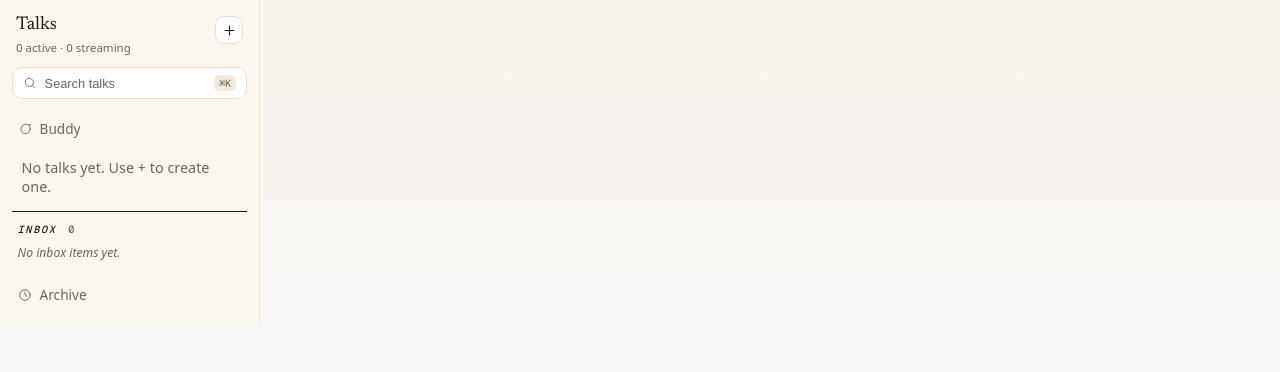
Test case: SecondaryList › exposes the create menu under the preserved "Create talk or folder" label
Click the button named "Create talk or folder": (229,30) x1=215 y1=16 x2=243 y2=44
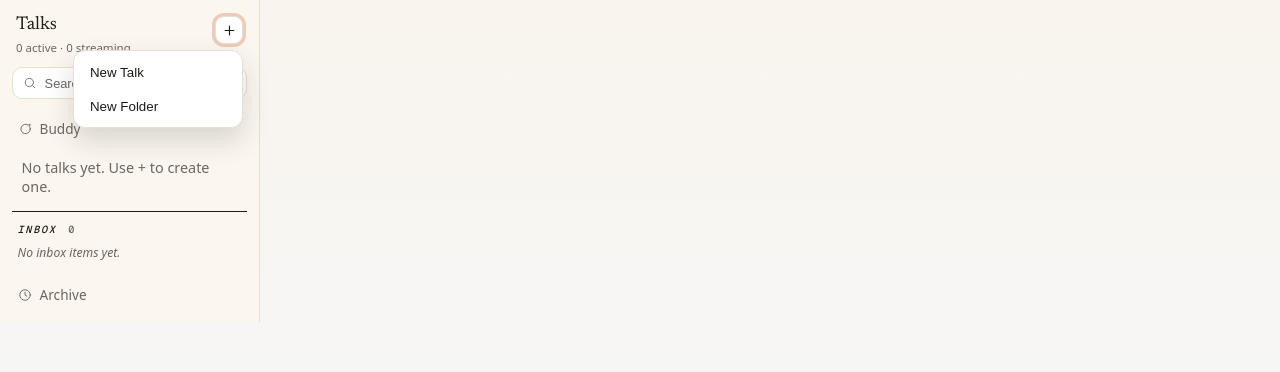
Result: the button "New Talk" is shown at x1=80 y1=57 x2=236 y2=88
Result: the button "New Folder" is shown at x1=80 y1=91 x2=236 y2=122
